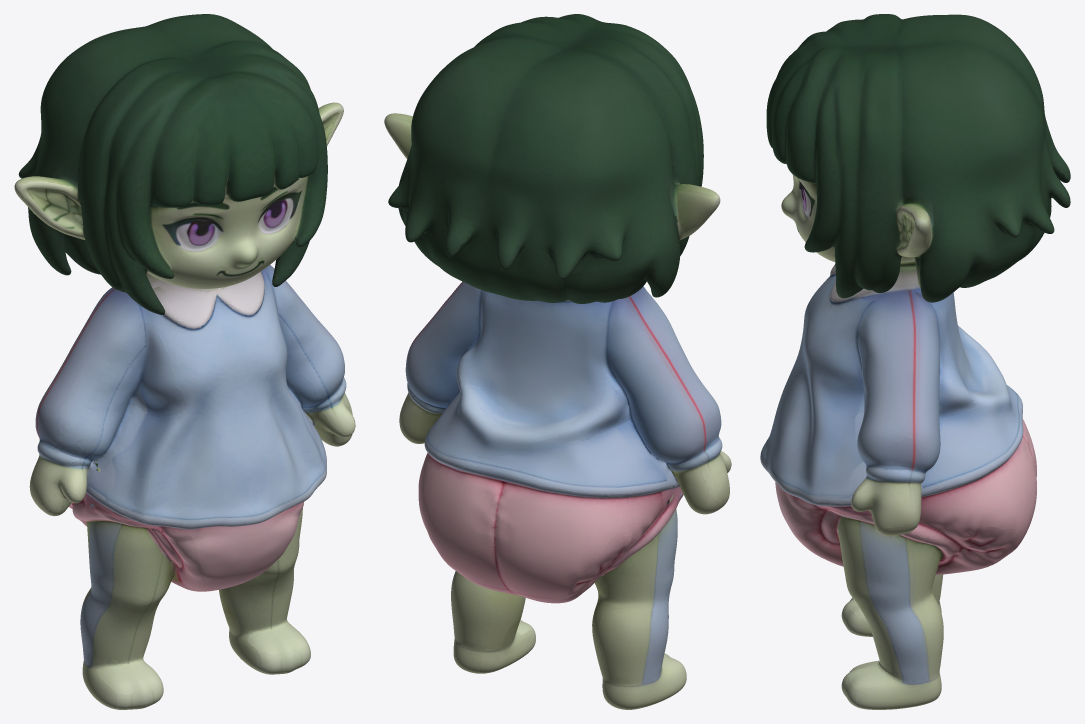
Rendered from flowerdiaperdoll1.glb.
The picture shows the model from 3 angles, left to right: view 1: azimuth 30°, elevation 25°; view 2: azimuth 150°, elevation 25°; view 3: azimuth 270°, elevation 25°; orthographic projection.
Parts seen in each view (by area): view 1: temp_mesh.ply; view 2: temp_mesh.ply; view 3: temp_mesh.ply.
Part boxes in pixels (<box>): temp_mesh.ply: <box>14,14,355,709</box>; temp_mesh.ply: <box>384,14,731,709</box>; temp_mesh.ply: <box>760,14,1070,709</box>.
Bounding box in the file's own units: 1.08 × 1.98 × 0.8868.
1 material, 1 textured.
